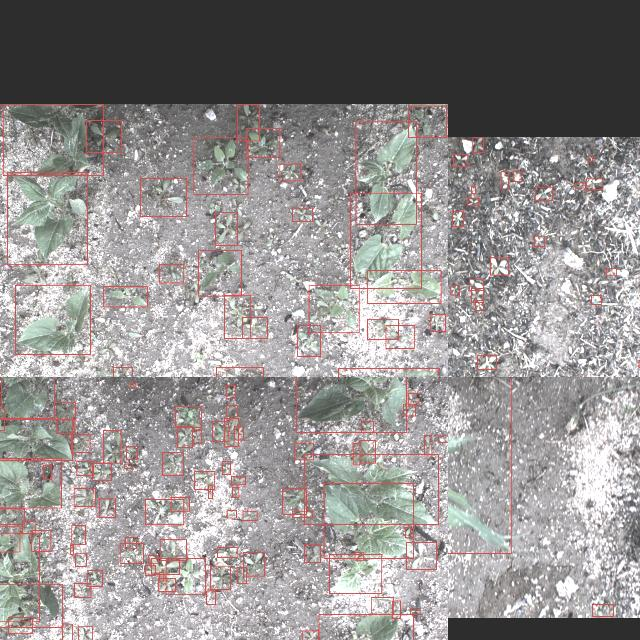crop: (448, 377, 510, 554), (304, 454, 438, 524), (6, 172, 86, 264), (2, 104, 102, 176), (350, 192, 420, 288), (323, 484, 413, 558), (355, 122, 415, 225), (295, 377, 406, 432), (15, 285, 90, 355), (0, 534, 38, 622), (0, 458, 61, 508), (0, 418, 71, 459), (0, 584, 62, 628), (318, 614, 413, 640), (368, 270, 440, 304), (0, 377, 53, 418), (328, 554, 382, 594)
weed: (193, 138, 247, 195), (308, 285, 358, 333), (198, 250, 240, 296), (140, 178, 186, 216), (165, 558, 205, 594), (408, 105, 446, 136), (224, 296, 250, 338), (86, 120, 120, 152), (245, 128, 279, 156), (145, 500, 183, 524), (103, 287, 147, 307), (406, 542, 436, 570), (237, 104, 260, 140), (215, 212, 238, 245), (296, 326, 320, 356), (367, 318, 398, 339), (282, 488, 306, 514), (385, 326, 413, 348), (102, 430, 120, 462), (175, 406, 201, 428), (242, 552, 264, 576), (159, 540, 185, 560), (242, 317, 266, 338), (0, 526, 19, 552), (162, 452, 182, 476), (210, 566, 230, 590), (215, 367, 262, 377), (151, 558, 179, 574), (120, 543, 142, 563), (159, 264, 183, 282), (31, 530, 50, 552), (74, 488, 95, 507), (224, 418, 238, 446), (8, 617, 32, 633), (70, 433, 90, 452), (194, 471, 214, 489), (54, 402, 74, 420), (91, 462, 111, 480), (0, 508, 23, 523), (280, 163, 300, 180), (294, 442, 312, 460), (372, 598, 392, 614), (212, 421, 228, 441), (176, 426, 192, 446), (98, 498, 114, 518), (360, 440, 374, 462), (489, 258, 507, 274), (304, 544, 320, 562), (292, 207, 312, 221), (476, 355, 496, 369), (71, 525, 85, 545), (86, 570, 102, 586), (76, 460, 92, 476), (430, 314, 444, 332), (170, 497, 188, 511), (56, 419, 74, 433), (592, 605, 612, 617), (158, 578, 175, 592), (534, 187, 552, 200), (74, 583, 90, 597), (217, 547, 237, 557), (77, 627, 92, 640), (586, 178, 602, 190), (452, 154, 468, 166), (472, 136, 483, 152), (352, 443, 360, 465), (61, 624, 72, 640), (112, 368, 131, 377), (469, 278, 483, 290), (470, 288, 482, 302), (22, 521, 36, 533), (452, 210, 462, 226), (423, 435, 431, 455), (301, 630, 317, 640), (292, 510, 312, 518), (236, 567, 246, 583), (392, 601, 400, 619), (403, 403, 415, 415), (74, 554, 86, 566), (225, 384, 235, 398), (242, 511, 256, 521), (408, 392, 418, 406), (361, 421, 373, 432), (226, 404, 237, 416), (125, 446, 136, 458), (500, 172, 508, 188), (43, 464, 51, 480), (124, 538, 136, 548), (234, 426, 242, 440), (231, 476, 245, 484), (206, 591, 214, 605), (534, 236, 544, 247), (450, 285, 460, 295), (148, 554, 158, 564), (145, 566, 155, 576), (192, 430, 200, 442), (222, 462, 230, 474), (467, 198, 478, 206), (590, 296, 600, 304), (474, 300, 482, 310), (226, 510, 236, 518), (404, 526, 410, 538), (437, 436, 448, 442), (354, 552, 362, 560), (514, 171, 520, 181), (605, 268, 615, 274), (575, 182, 585, 188), (410, 609, 420, 615), (232, 487, 238, 497), (158, 572, 164, 582), (207, 486, 211, 498), (471, 186, 475, 194), (124, 464, 132, 468), (588, 155, 592, 161), (129, 383, 135, 387), (70, 546, 72, 554), (638, 360, 640, 367)
